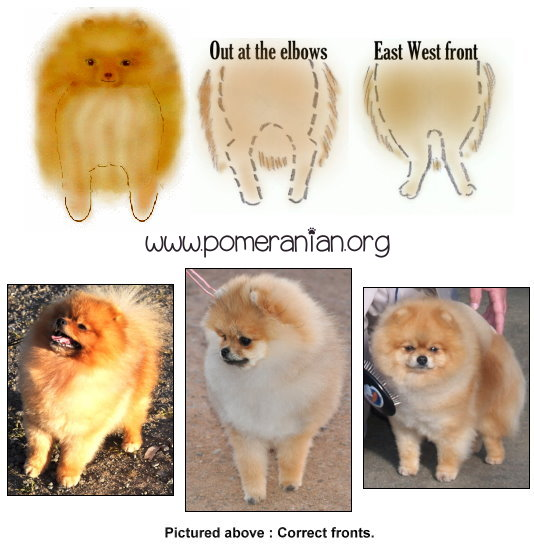pomeranian: (203, 264, 337, 498), (18, 284, 161, 503), (380, 288, 534, 488)
